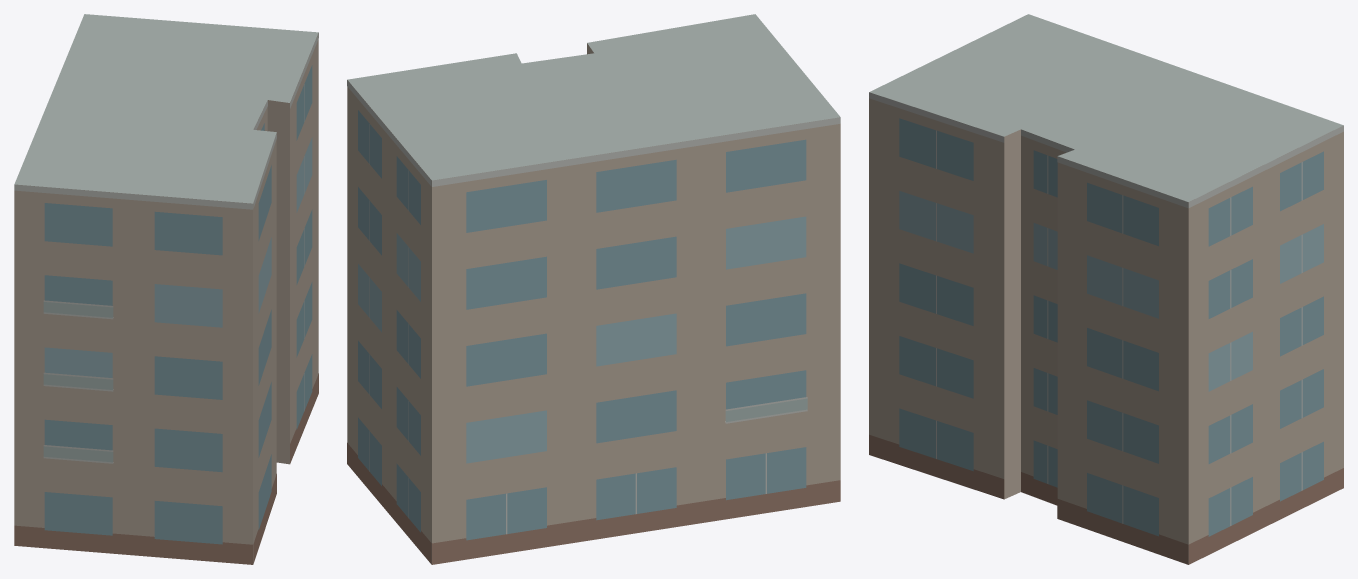
Rendered from survey-upis-32886894.glb.
3 renders of one model, left to right at view 1: azimuth 30°, elevation 25°; view 2: azimuth 150°, elevation 25°; view 3: azimuth 270°, elevation 25°, orthographic. The views are drawn at different scales.
Visible parts, largest first — view 1: survey-upis-32886894.tmp; view 2: survey-upis-32886894.tmp; view 3: survey-upis-32886894.tmp.
Boxes of the visible parts, x1,y1,x2,y2 form: survey-upis-32886894.tmp: (14, 14, 318, 564); survey-upis-32886894.tmp: (347, 14, 840, 564); survey-upis-32886894.tmp: (869, 14, 1343, 564).
Size of the model in its own units: 16.03 by 14.4 by 17.09.
